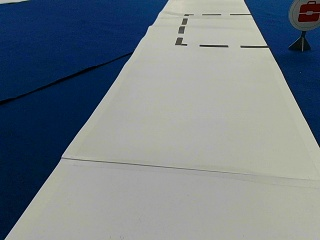company: (288, 0, 319, 30)
